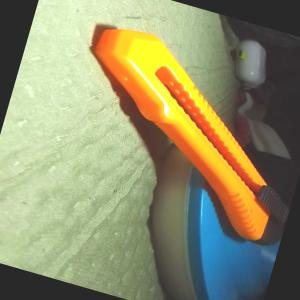estilete: (52, 17, 300, 250)
